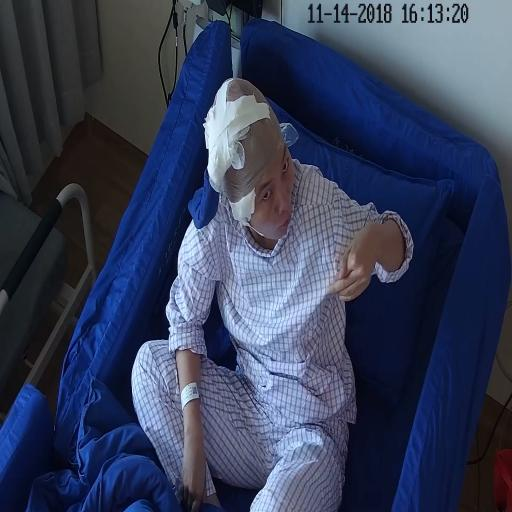Seizure: (225, 119, 302, 243)
